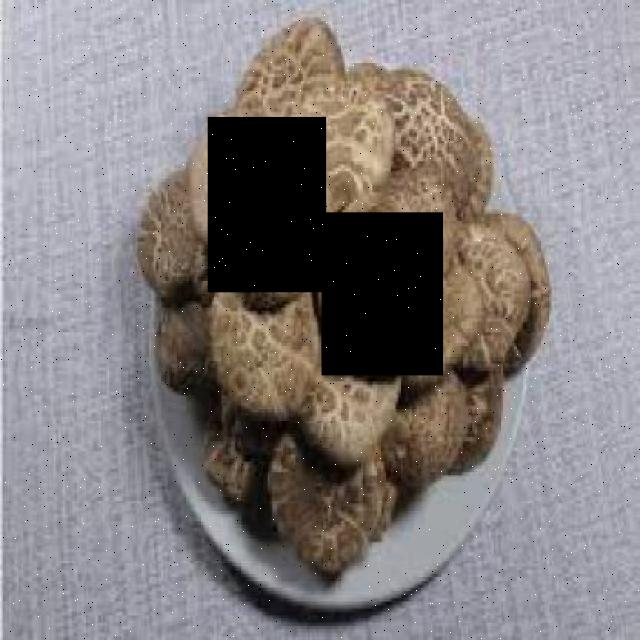Mushroom: (208, 118, 326, 293), (322, 212, 443, 376)
